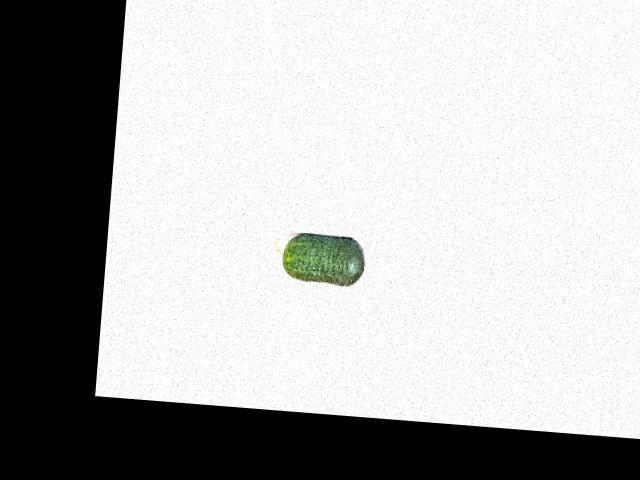cucumber: (271, 230, 365, 288)
